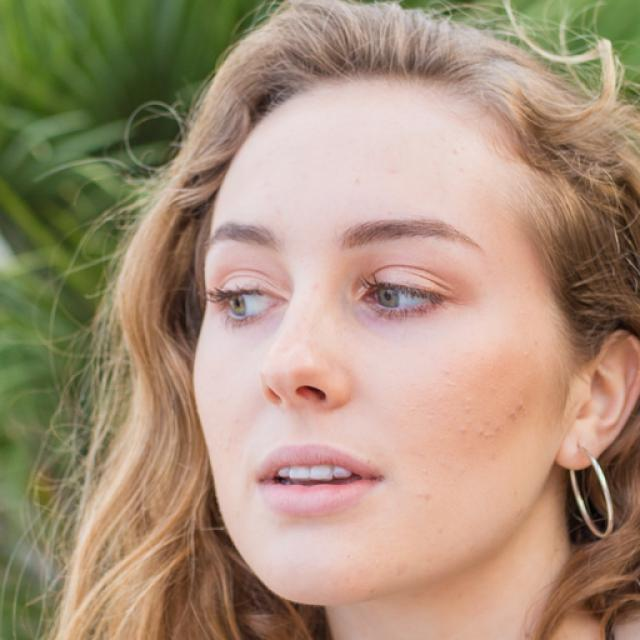Acne: (472, 424, 493, 442), (460, 397, 475, 420), (434, 362, 456, 377)
